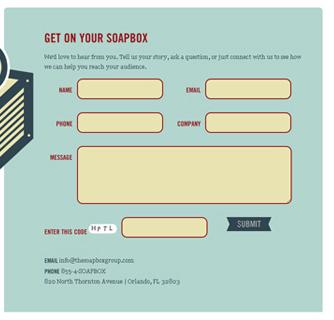button: (225, 216, 274, 232)
field: (75, 145, 293, 205), (75, 77, 163, 100), (76, 111, 164, 134), (121, 216, 208, 239), (204, 78, 292, 100), (204, 111, 292, 133)
